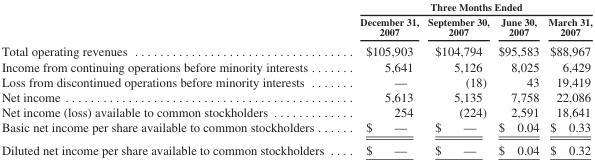table: (0, 0, 591, 156)
table column: (0, 0, 341, 156), (341, 0, 422, 156), (422, 0, 493, 156), (493, 0, 543, 156), (543, 0, 591, 156)
table column header: (0, 0, 591, 40)
table row: (0, 14, 591, 40), (0, 119, 591, 138), (0, 40, 591, 58), (0, 138, 591, 156), (0, 73, 591, 89), (0, 58, 591, 73), (0, 89, 591, 104), (0, 104, 591, 119), (0, 0, 591, 14)
table spanning cell: (341, 0, 591, 14)
